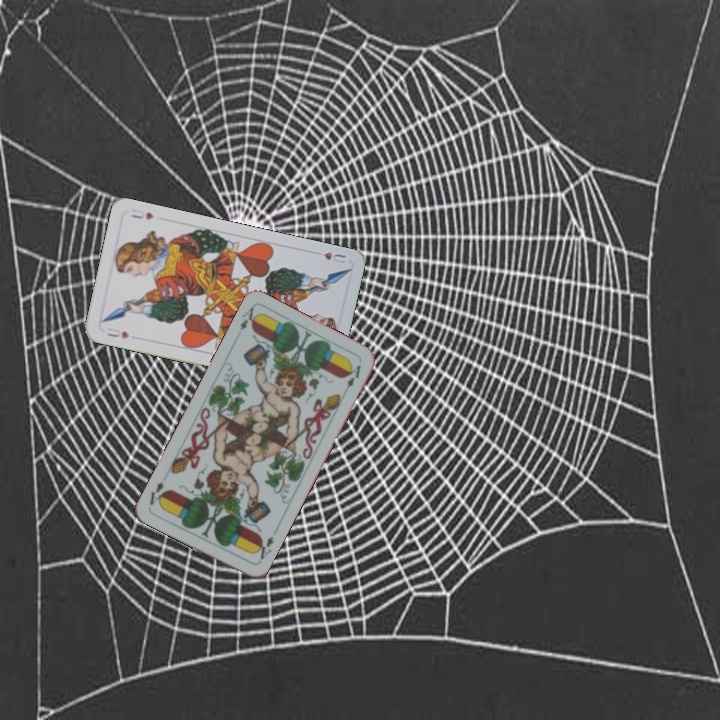EA: (250, 532, 276, 562), (236, 303, 261, 333)
HU: (103, 323, 132, 341), (320, 248, 349, 266)
